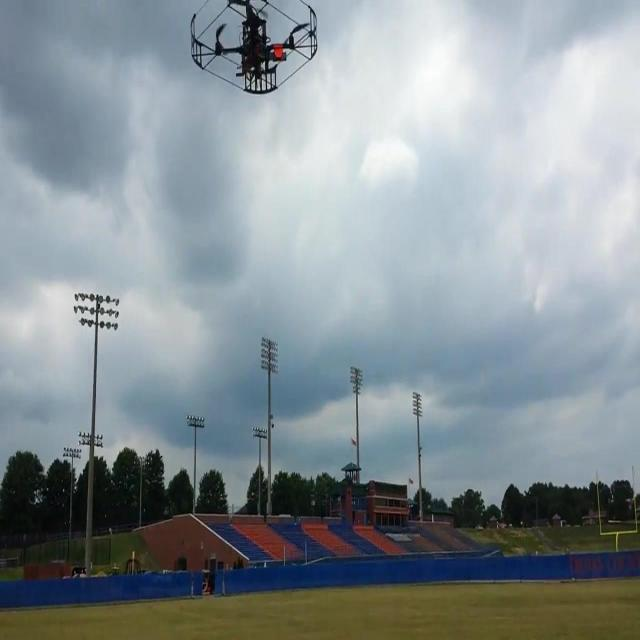UAV: (190, 0, 318, 95)
